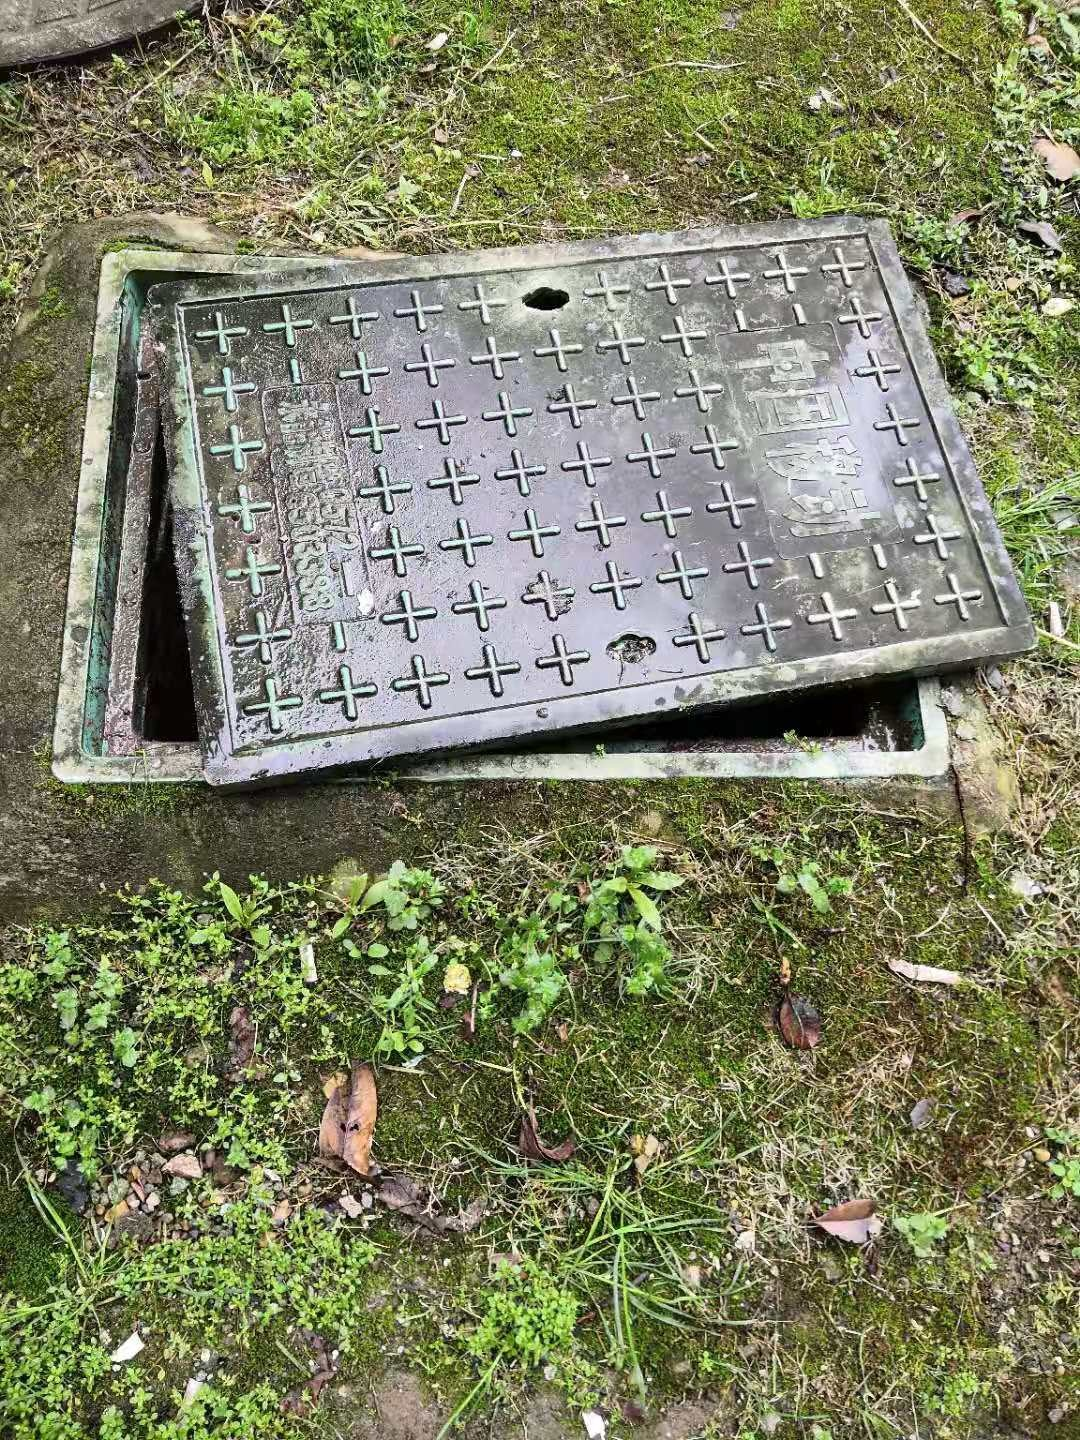uncovered: (44, 211, 1044, 785)
